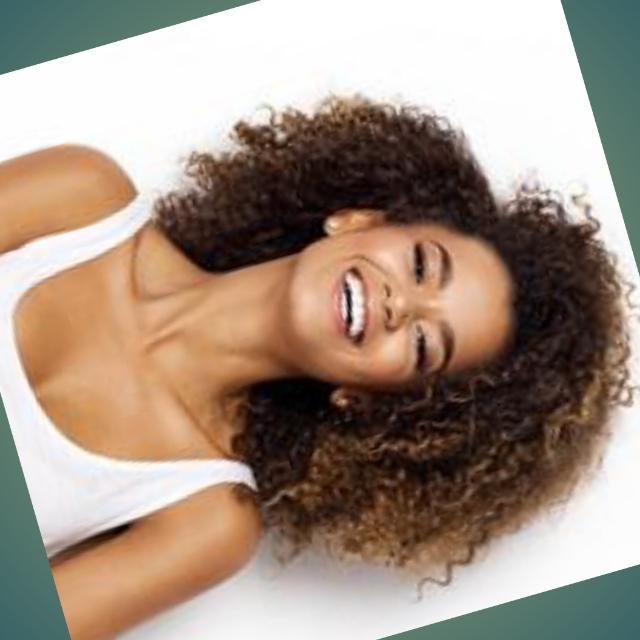Happy: (254, 181, 543, 430)
